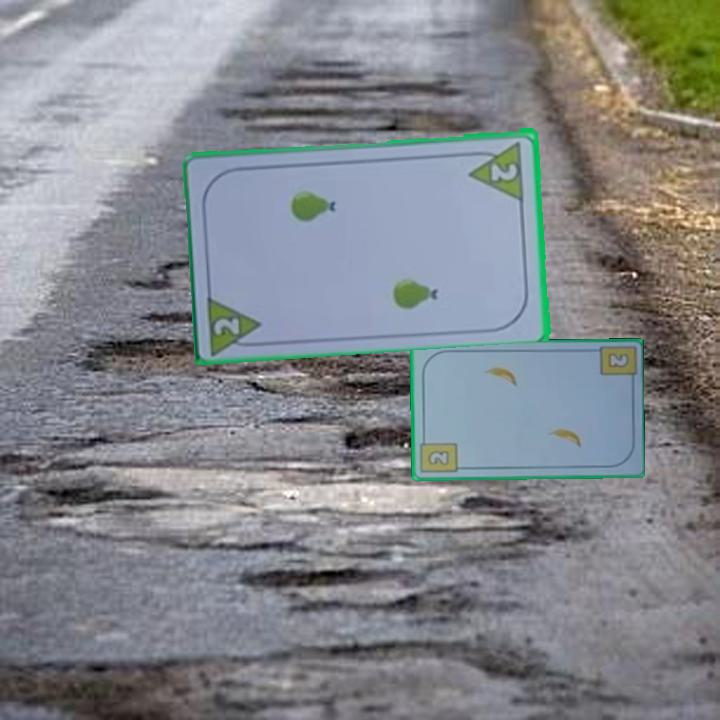2b: (418, 432, 460, 476), (604, 349, 632, 371)
2p: (203, 290, 267, 355), (465, 137, 528, 202)
